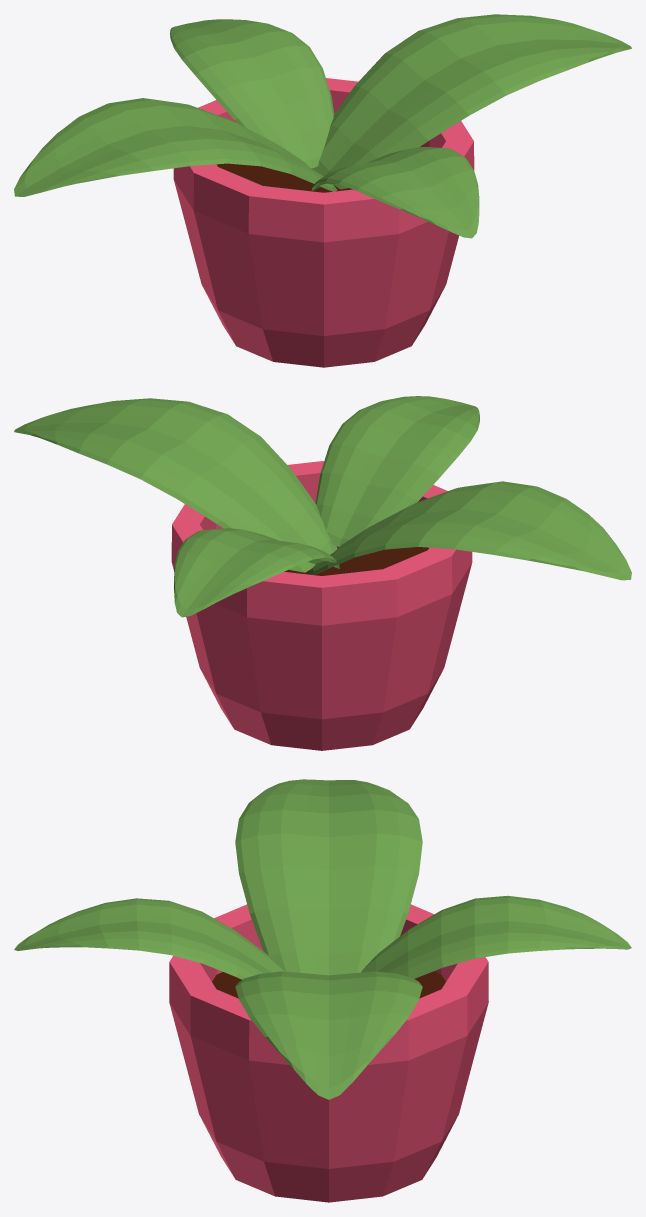
The model's file is planta.fbx.
3 views of the same model, one above another, from view 1: azimuth 30°, elevation 25°; view 2: azimuth 150°, elevation 25°; view 3: azimuth 270°, elevation 25° (orthographic). The views are drawn at different scales.
Visible parts, largest first — view 1: Cylinder, Plane, Plane.001, Plane.002, Plane.003; view 2: Cylinder, Plane, Plane.001, Plane.003, Plane.002; view 3: Cylinder, Plane.001, Plane, Plane.002, Plane.003.
Boxes of the visible parts, x1,y1,x2,y2 form: Cylinder: (173,78,474,367); Plane: (311,14,631,189); Plane.001: (14,98,337,196); Plane.002: (170,19,334,168); Plane.003: (311,147,479,238); Cylinder: (171,461,472,750); Plane: (14,398,337,572); Plane.001: (308,481,631,580); Plane.003: (315,396,479,546); Plane.002: (174,528,339,617); Cylinder: (169,904,488,1202); Plane.001: (235,779,422,975); Plane: (235,971,422,1099); Plane.002: (361,895,631,978); Plane.003: (14,898,284,979).
Bounding box in the file's own units: 702 × 263 × 574.
